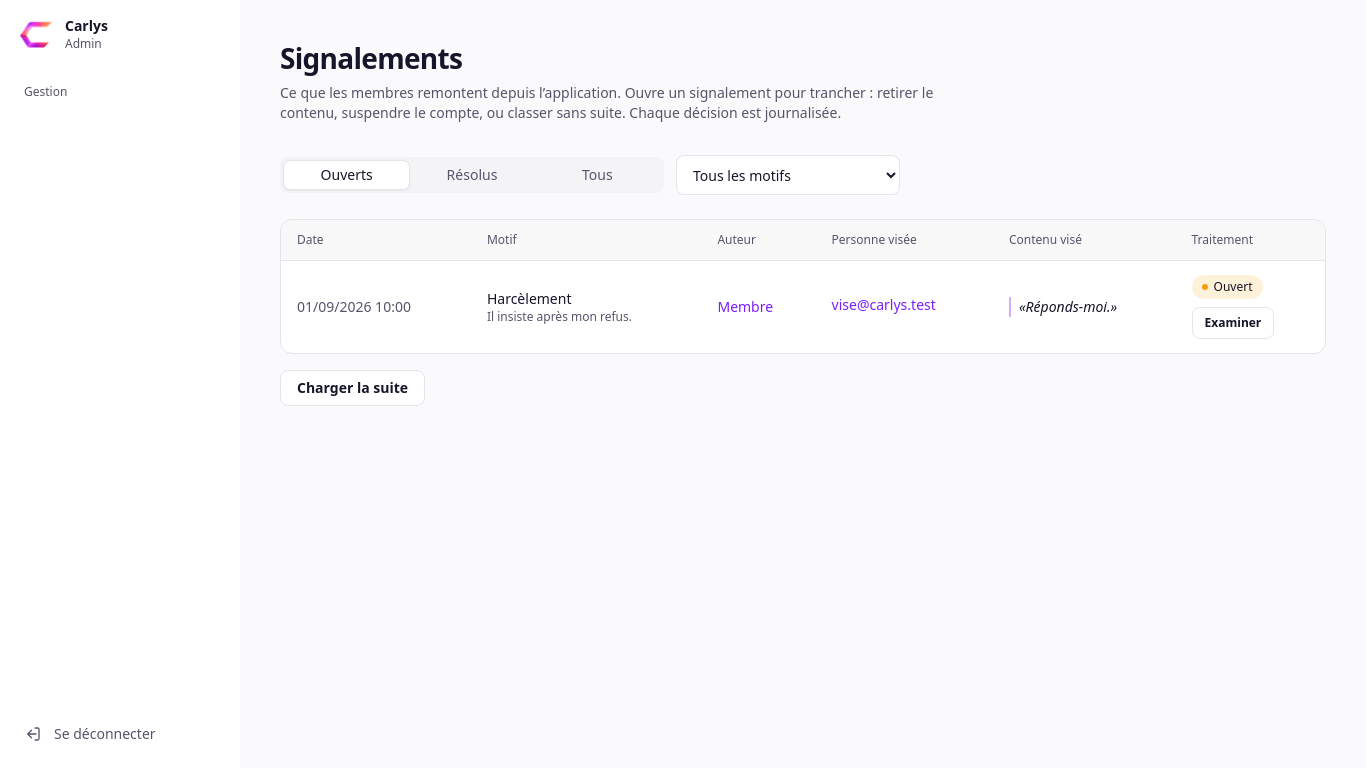
Page Signalements › charge la suite avec le curseur rendu par la page précédente
Click the button "Charger la suite".
click(353, 388)  # box left=280, top=370, right=425, bottom=406
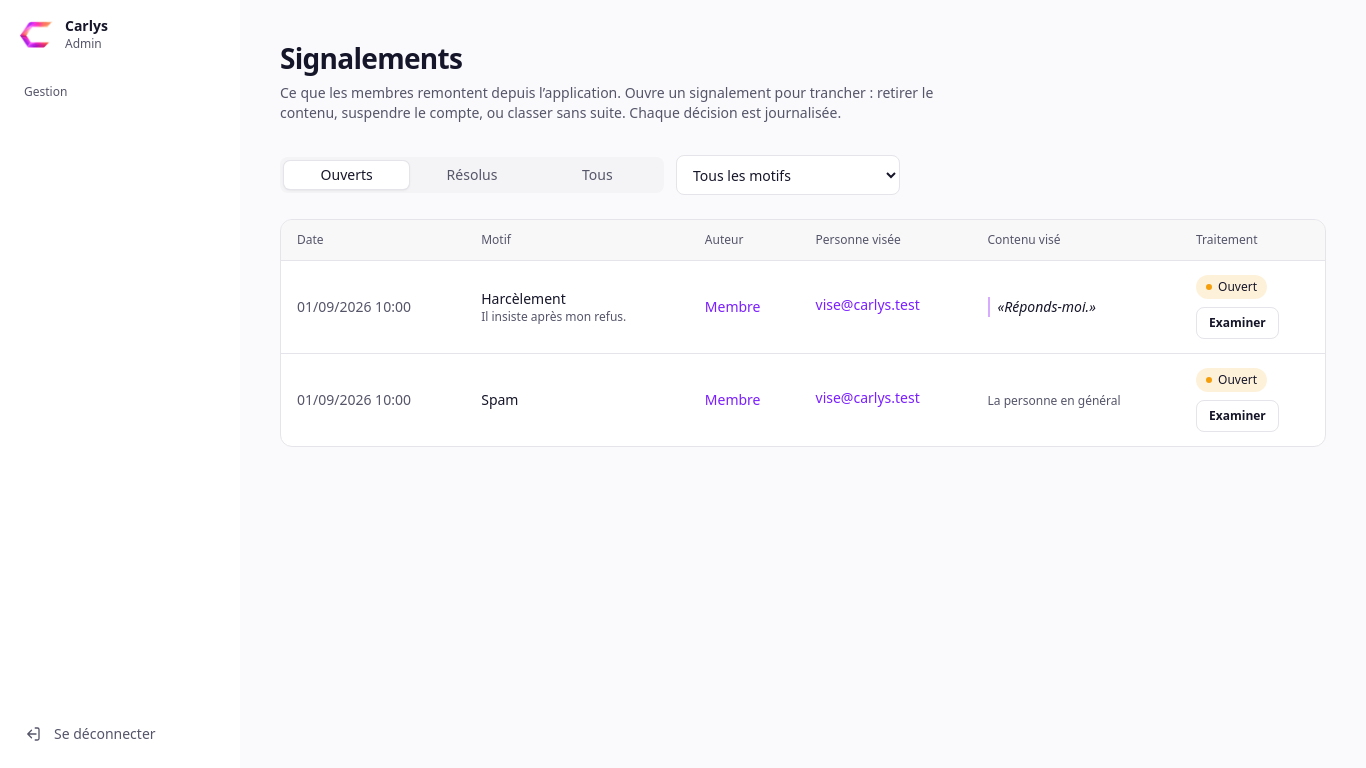
Expected: the text "Harcèlement" is shown, left=481, top=289, right=566, bottom=308
Result: the text "Spam" is shown at left=481, top=390, right=518, bottom=409
Result: the button "Charger la suite" is gone
